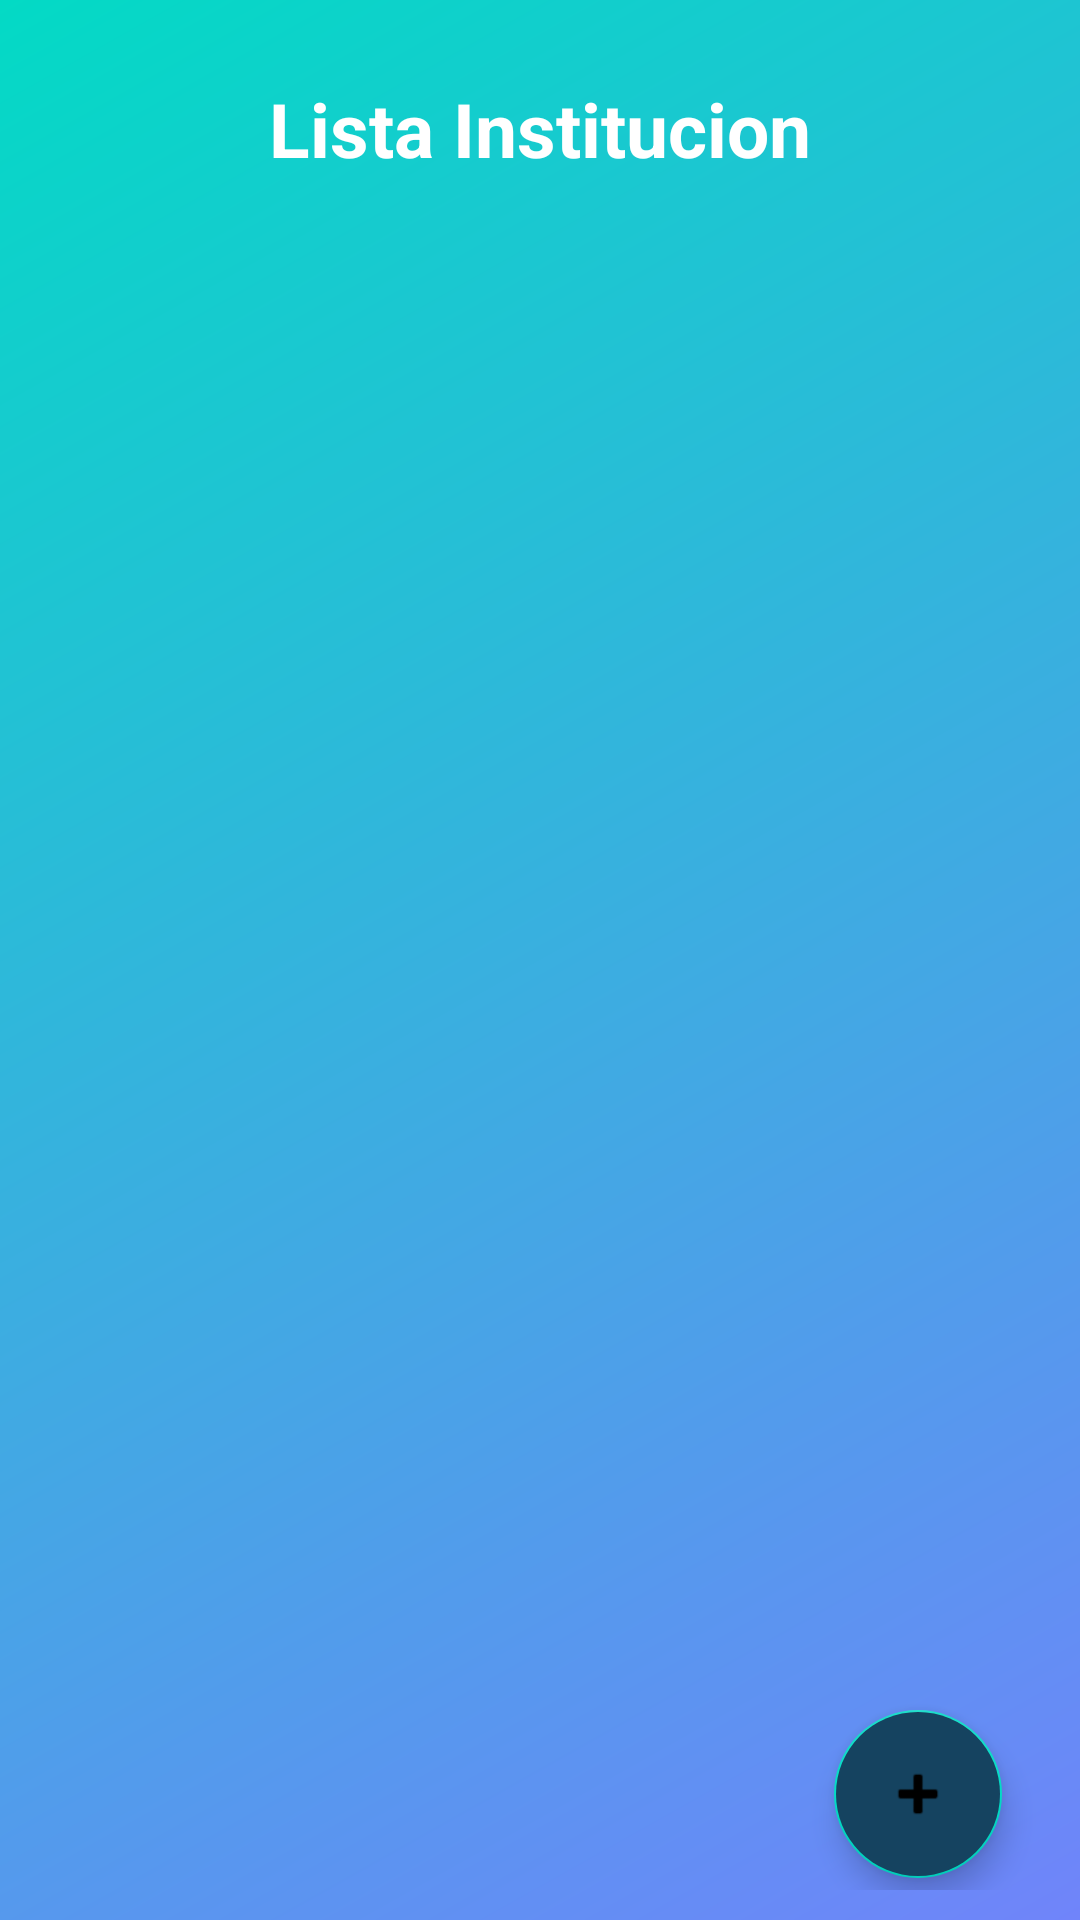

Named icons in this screenshot (1080px x 1920px) and their centers, [x,y]:
add: [918,1794]
